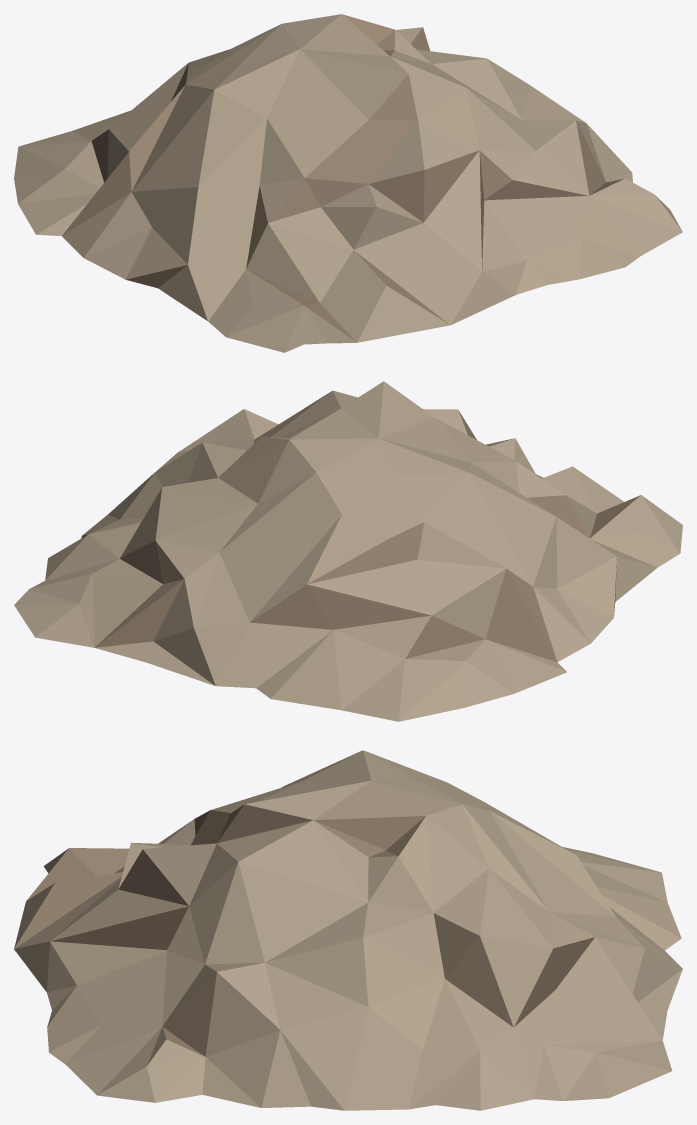
File: SM_Env_GroundMound_Rough_02.FBX
3 renders of one model, top to bottom at view 1: azimuth 30°, elevation 25°; view 2: azimuth 150°, elevation 25°; view 3: azimuth 270°, elevation 25°, orthographic. The views are drawn at different scales.
Visible parts, largest first — view 1: SM_Env_GroundMound_Rough_02; view 2: SM_Env_GroundMound_Rough_02; view 3: SM_Env_GroundMound_Rough_02.
Part boxes in pixels (x1,y1,x2,y2): SM_Env_GroundMound_Rough_02: (14, 14, 682, 352); SM_Env_GroundMound_Rough_02: (14, 381, 682, 721); SM_Env_GroundMound_Rough_02: (14, 750, 682, 1110).
Size of what is drawn, in the model's own units: 260 by 262 by 77.07.
